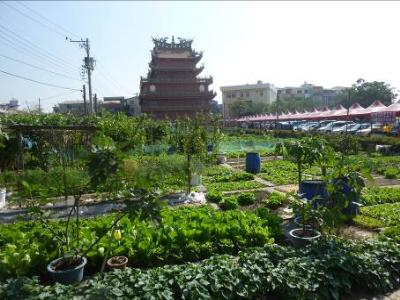bucket: (246, 151, 261, 173)
plate: (300, 177, 327, 188)
